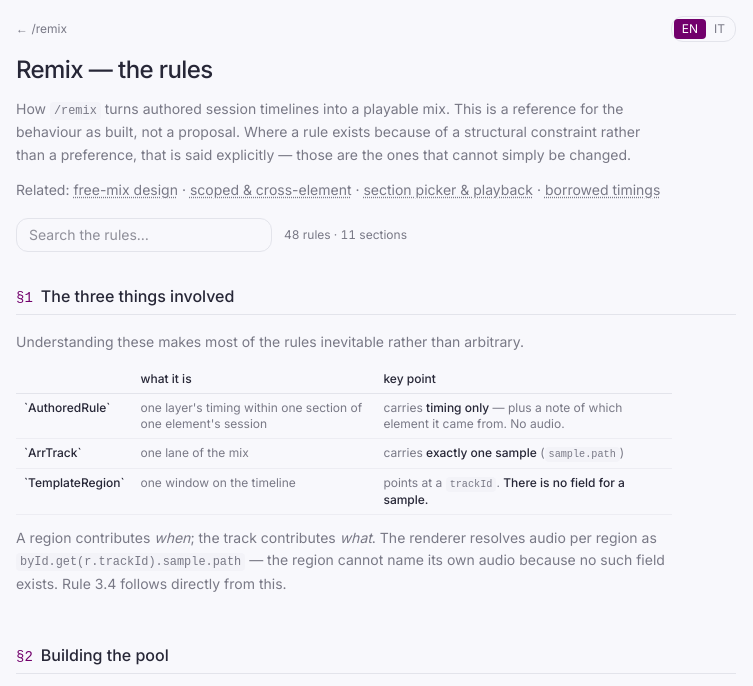
it: RulebookPage — language switch › searches the Italian text when Italian is showing
This screenshot has width=753, height=686.
Click the button "IT" at x=720, y=29, box x1=706 y1=19 x2=733 y2=39
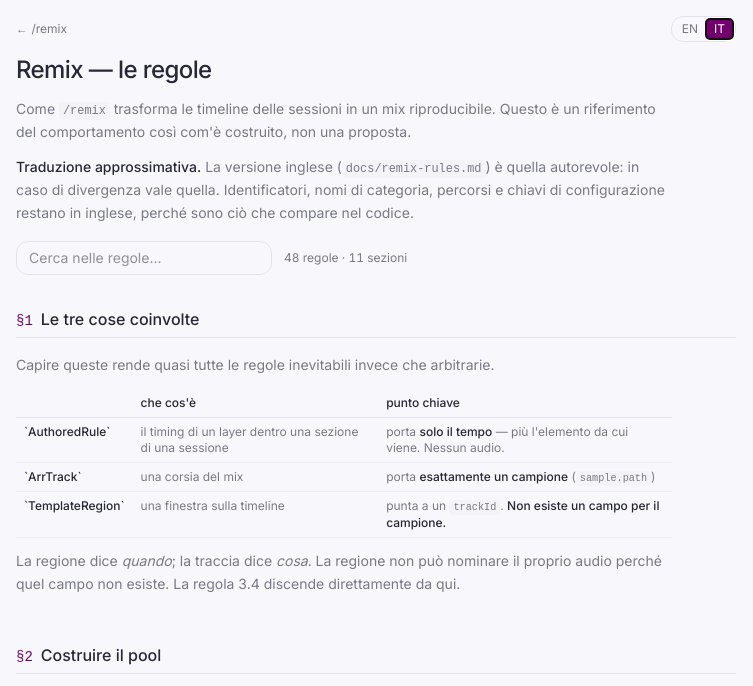
Type "corsia" into the search field labelled "Cerca nelle regole…" at x=144, y=258, box x1=16 y1=241 x2=272 y2=275
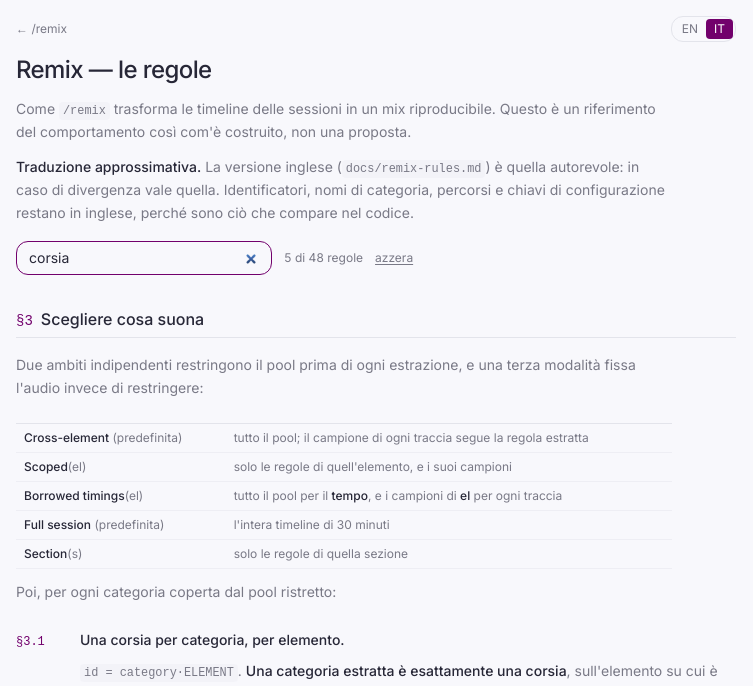
Result: the text "5 di 48 regole" is shown at x1=284 y1=250 x2=363 y2=266
